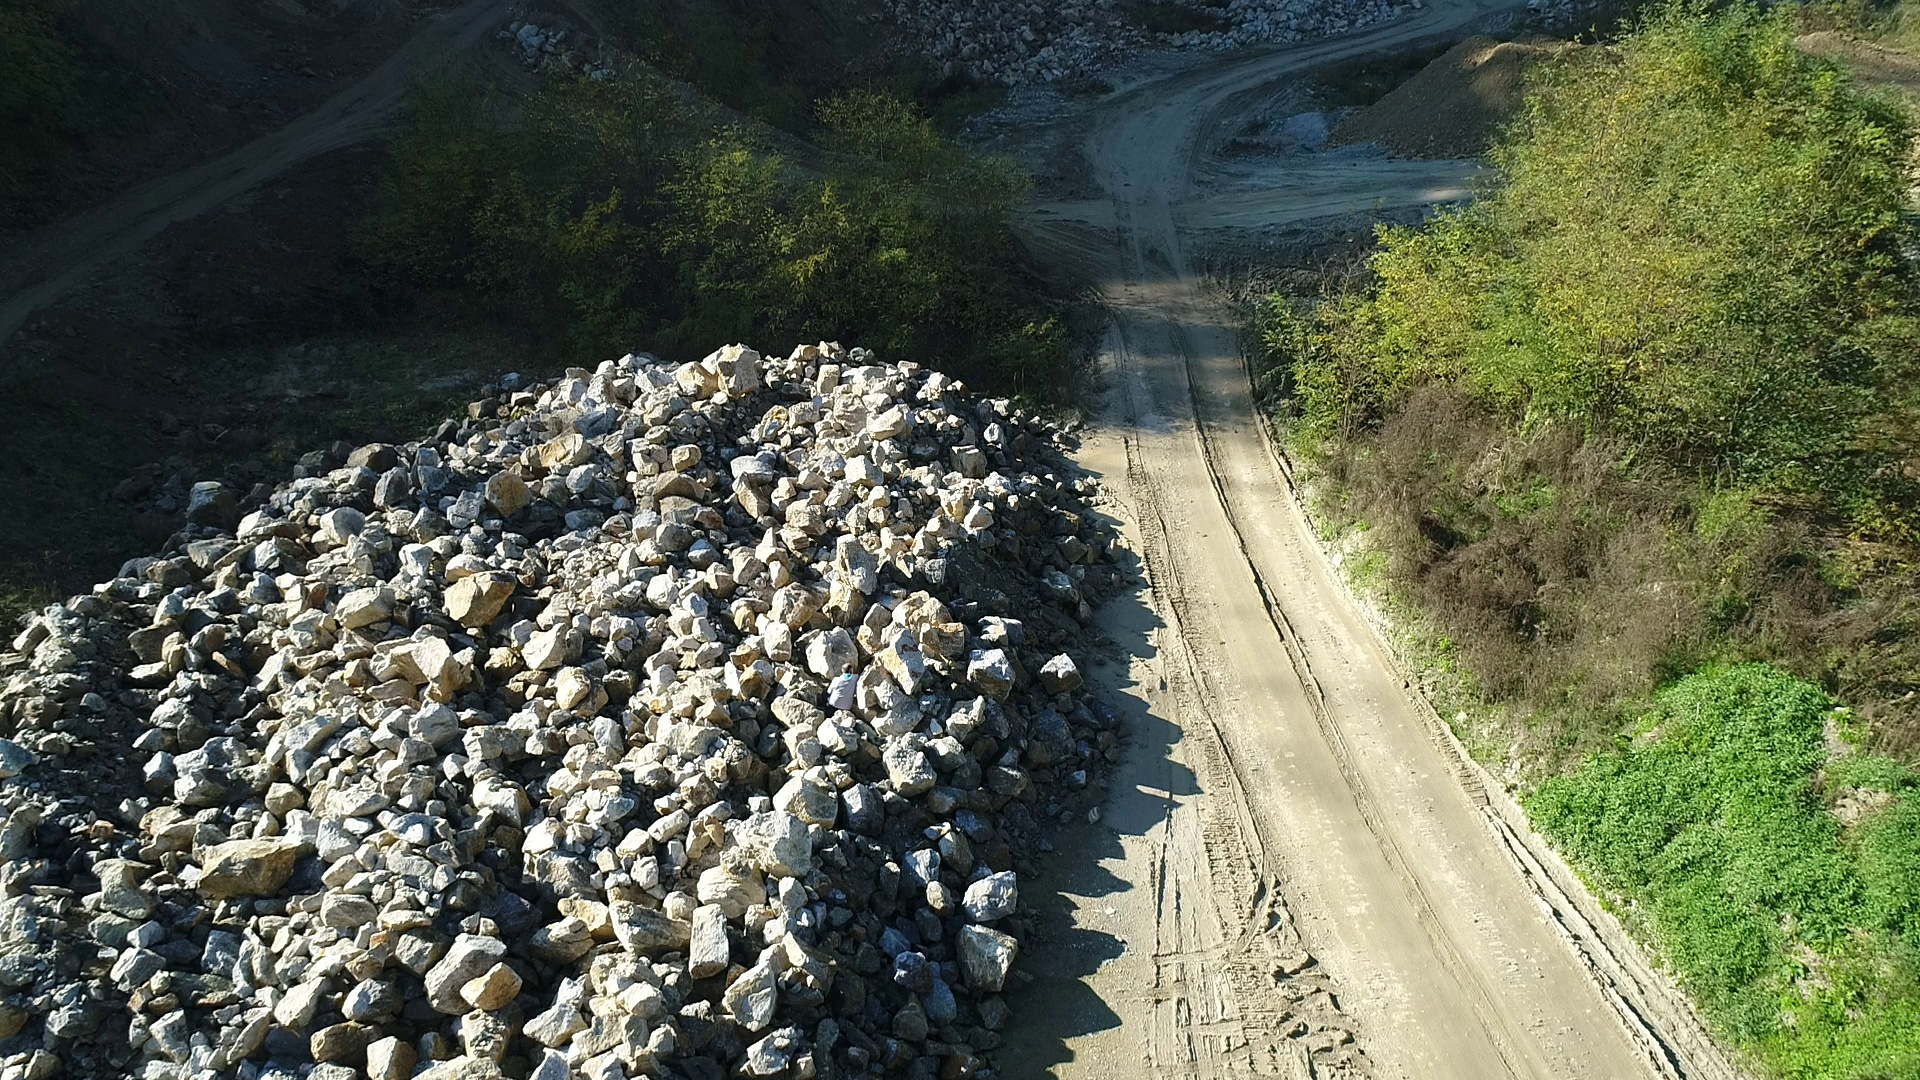person: (826, 660, 861, 720)
